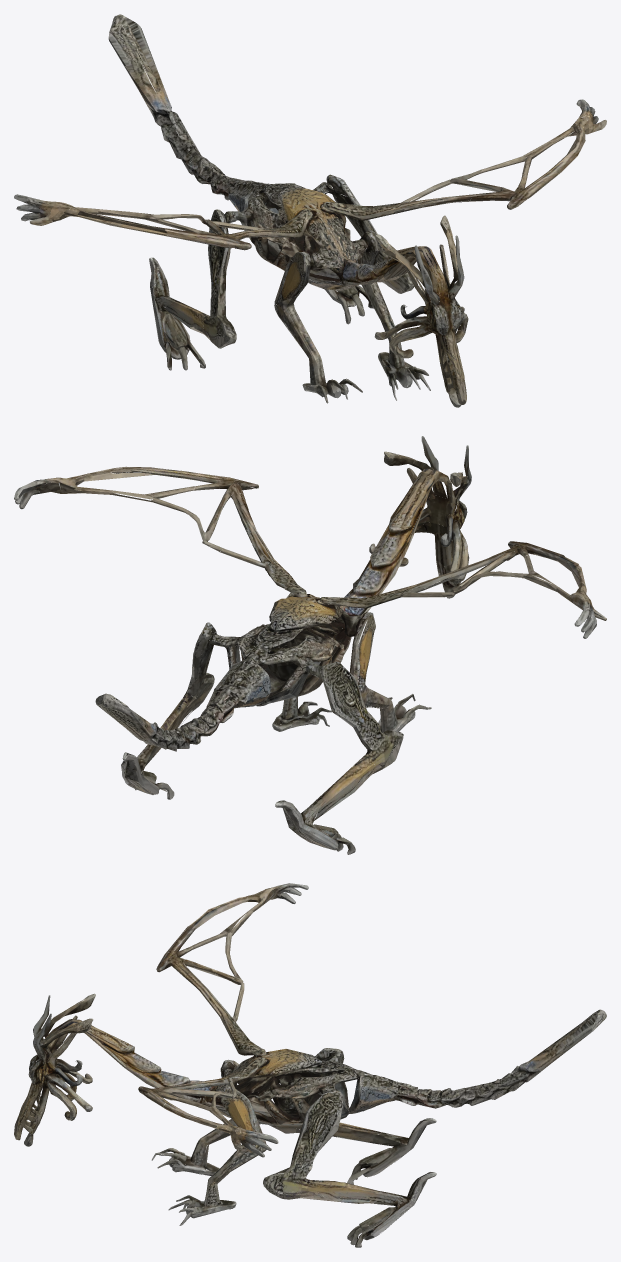
The model's file is dragon.glb.
3 views of the same model, one above another, from view 1: azimuth 30°, elevation 25°; view 2: azimuth 150°, elevation 25°; view 3: azimuth 270°, elevation 25° (orthographic). The views are drawn at different scales.
Parts seen in each view (by area): view 1: tripo_node_25da42ba-270e-4c88-bf8e-3a70caf14f25; view 2: tripo_node_25da42ba-270e-4c88-bf8e-3a70caf14f25; view 3: tripo_node_25da42ba-270e-4c88-bf8e-3a70caf14f25.
Part boxes in pixels (x1,y1,x2,y2): tripo_node_25da42ba-270e-4c88-bf8e-3a70caf14f25: [14, 14, 606, 407]; tripo_node_25da42ba-270e-4c88-bf8e-3a70caf14f25: [14, 436, 606, 854]; tripo_node_25da42ba-270e-4c88-bf8e-3a70caf14f25: [14, 883, 606, 1247].
Bounding box in the file's own units: 0.451 × 0.1917 × 0.4769.
1 material, 1 textured.
